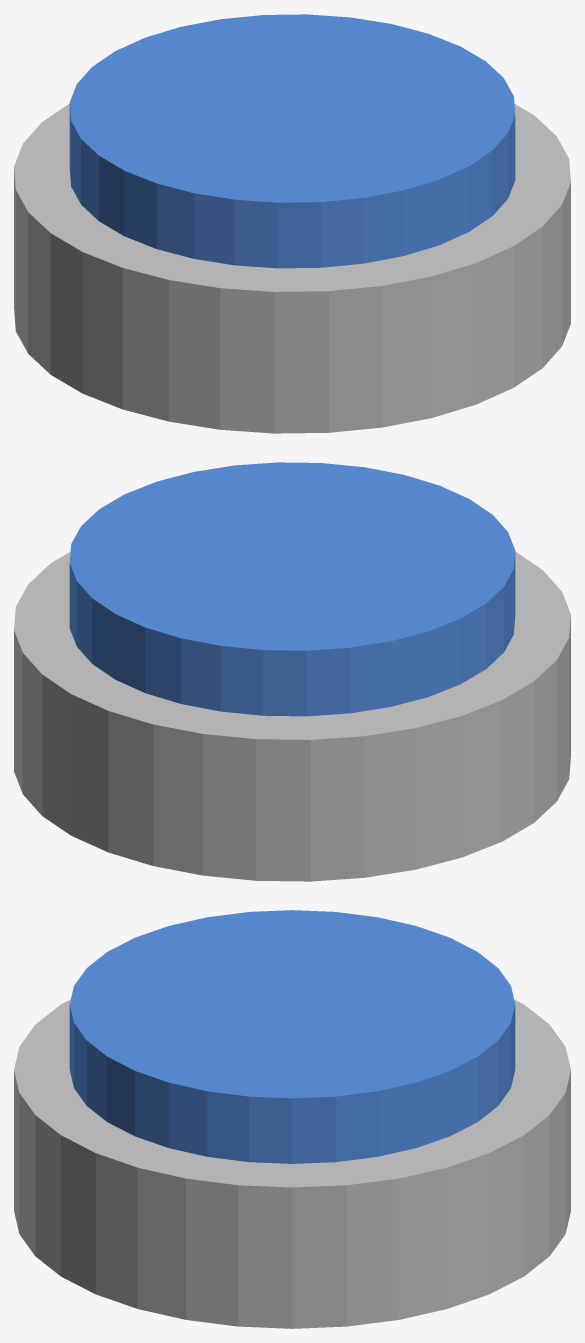
Rendered from button.fbx.
3 views of the same model, one above another, from view 1: azimuth 30°, elevation 25°; view 2: azimuth 150°, elevation 25°; view 3: azimuth 270°, elevation 25° (orthographic).
Parts seen in each view (by area): view 1: Cylinder, Cylinder.001; view 2: Cylinder, Cylinder.001; view 3: Cylinder, Cylinder.001.
Boxes of the visible parts, left/top/right/bottom form: Cylinder: left=14, top=103, right=570, bottom=433; Cylinder.001: left=69, top=14, right=515, bottom=268; Cylinder: left=14, top=551, right=570, bottom=881; Cylinder.001: left=69, top=462, right=515, bottom=716; Cylinder: left=14, top=999, right=570, bottom=1328; Cylinder.001: left=69, top=910, right=515, bottom=1163.
Bounding box in the file's own units: 141 × 57.68 × 141.
